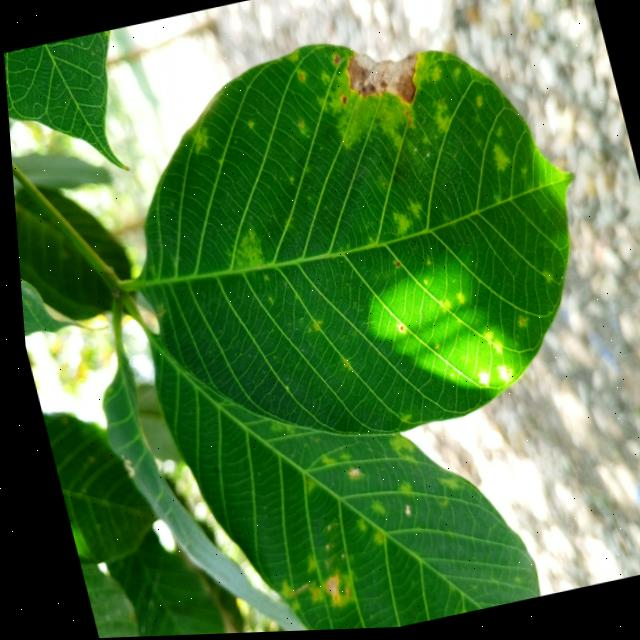Leaf-Blight: (338, 40, 427, 118)
